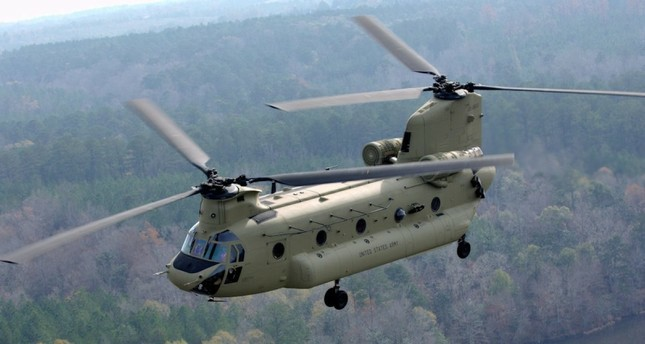chinook: (98, 43, 589, 310)
